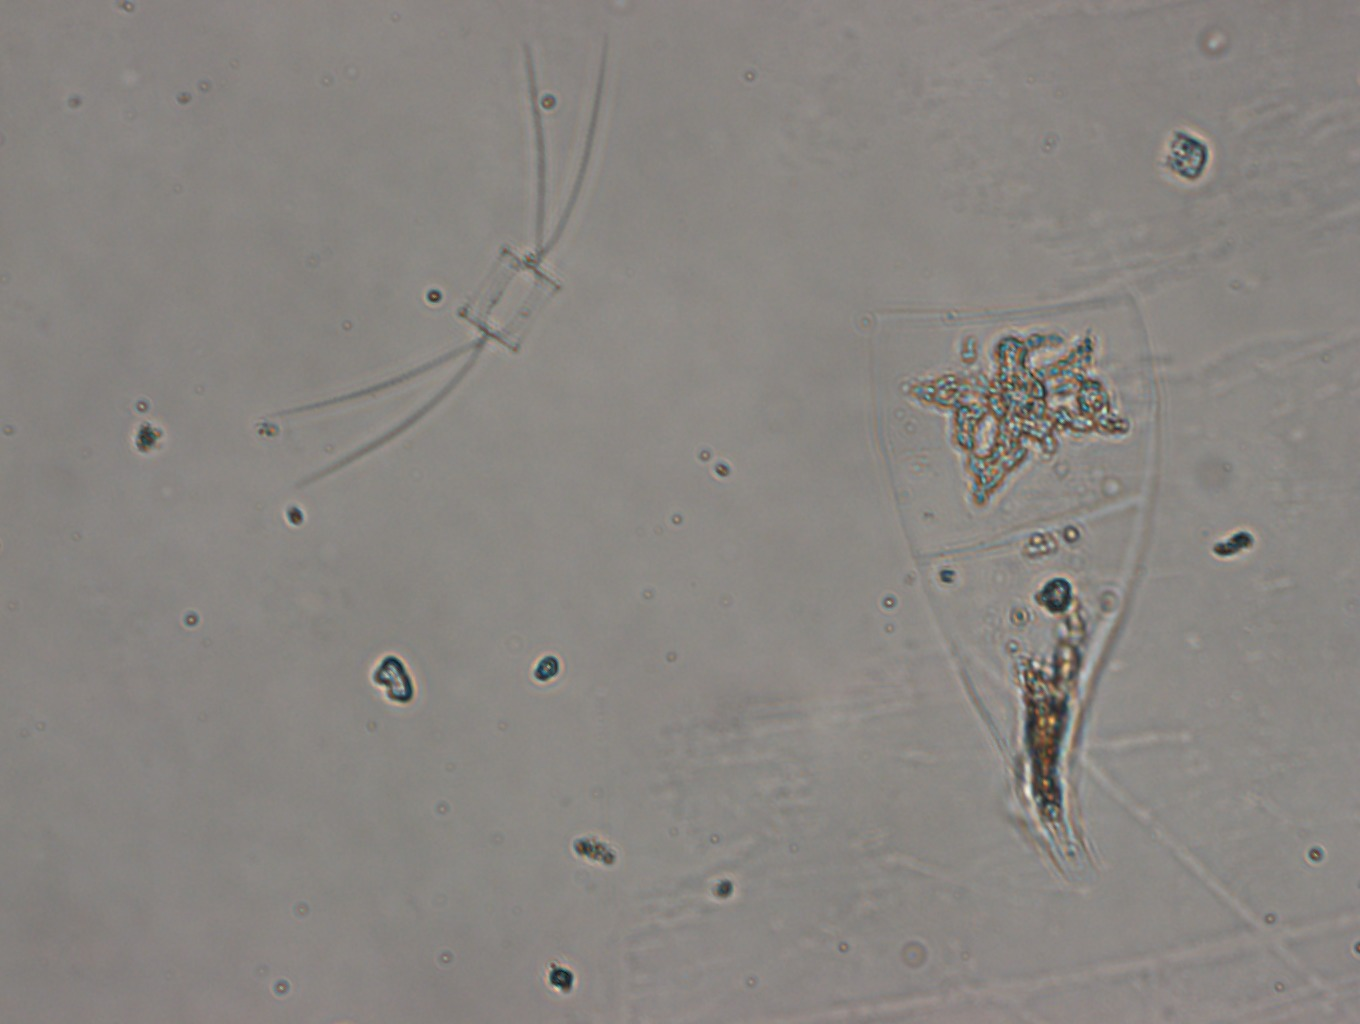chaetoceros: (259, 29, 609, 486)
helicotheca: (860, 290, 1162, 883)
